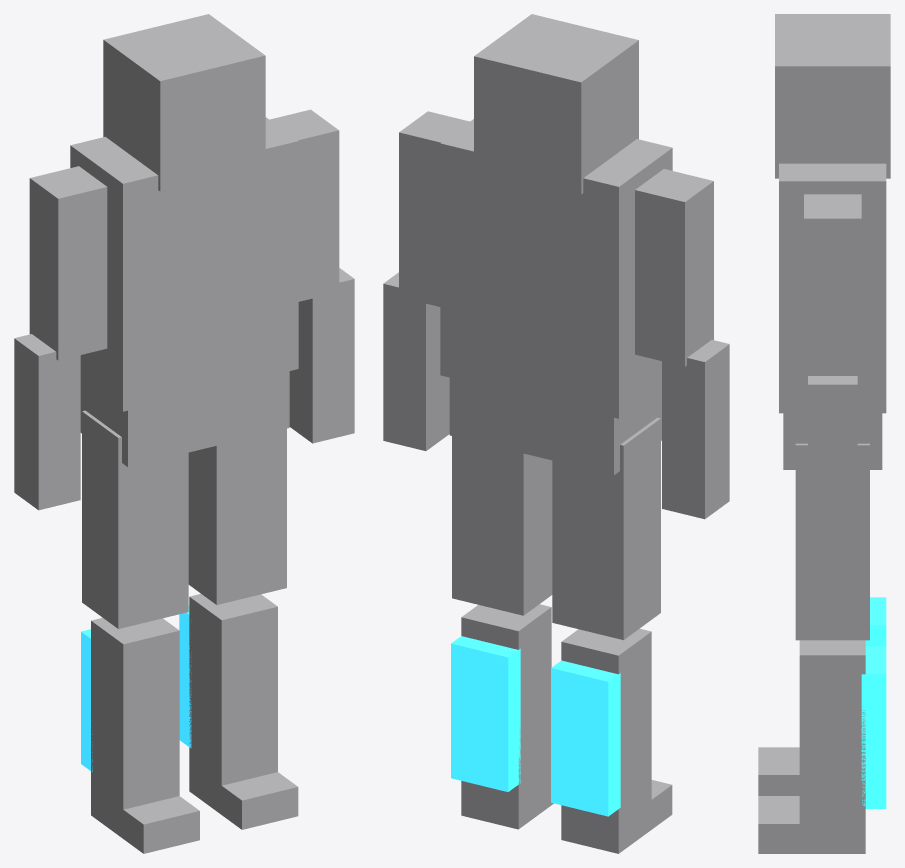
Rendered from calves.glb.
3 renders of one model, left to right at view 1: azimuth 30°, elevation 25°; view 2: azimuth 150°, elevation 25°; view 3: azimuth 270°, elevation 25°, orthographic.
Visible parts, largest first — view 1: Mannequin; view 2: Mannequin; view 3: Mannequin.
Boxes of the visible parts, x1,y1,x2,y2 form: Mannequin: [14, 14, 354, 853]; Mannequin: [383, 14, 729, 853]; Mannequin: [758, 14, 890, 853].
Bounding box in the file's own units: 0.9 × 2.07 × 0.32.
